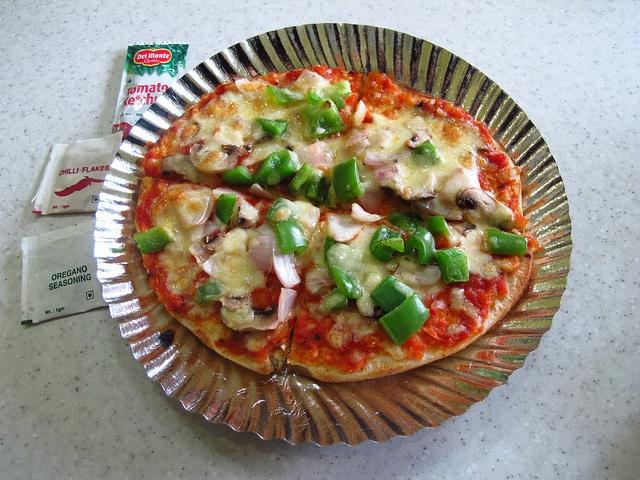bell pepper: (378, 290, 431, 346), (298, 98, 346, 142), (368, 274, 416, 314), (332, 157, 366, 204), (254, 150, 296, 186), (400, 227, 436, 264), (274, 218, 308, 256), (434, 248, 469, 283), (132, 226, 174, 254), (329, 267, 364, 299), (265, 196, 298, 228), (488, 230, 528, 256), (264, 84, 308, 106), (370, 224, 402, 252), (288, 162, 314, 194), (254, 117, 290, 140), (412, 140, 442, 167), (372, 238, 404, 263), (215, 192, 238, 224), (222, 165, 256, 186), (321, 287, 348, 313), (322, 80, 352, 103), (390, 212, 424, 232), (193, 282, 221, 304), (426, 216, 453, 237), (319, 176, 331, 206), (307, 88, 322, 104), (336, 98, 346, 110)
hot pepper: (30, 130, 123, 215), (378, 292, 431, 346), (323, 233, 362, 299), (298, 98, 346, 139), (255, 151, 299, 186), (370, 274, 406, 314), (431, 247, 470, 283), (369, 225, 404, 262), (487, 229, 528, 256), (254, 118, 290, 139)
